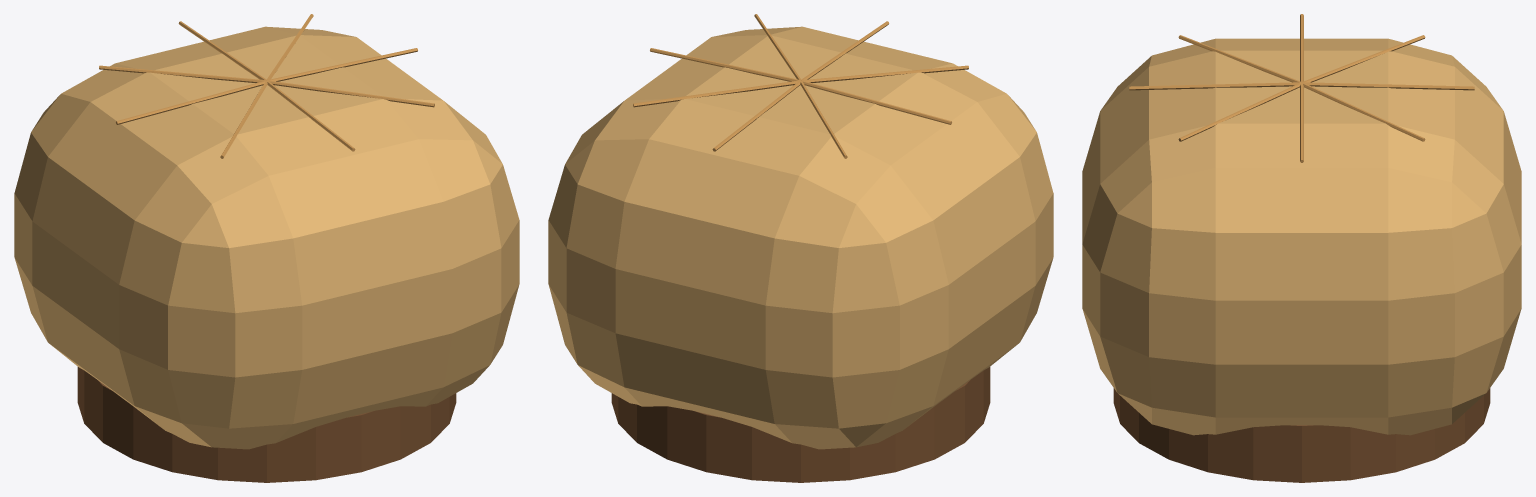
The model's file is pouf_round.glb.
3 views of the same model, side by side, from view 1: azimuth 30°, elevation 25°; view 2: azimuth 150°, elevation 25°; view 3: azimuth 270°, elevation 25° (orthographic).
Parts seen in each view (by area): view 1: pouf_round__oak_light, pouf_round__oak_dark, pouf_round__oak_top; view 2: pouf_round__oak_light, pouf_round__oak_dark, pouf_round__oak_top; view 3: pouf_round__oak_light, pouf_round__oak_dark, pouf_round__oak_top.
Boxes of the visible parts, <box> form: pouf_round__oak_light: <box>14,26,519,449</box>; pouf_round__oak_dark: <box>77,367,456,482</box>; pouf_round__oak_top: <box>99,14,434,158</box>; pouf_round__oak_light: <box>548,26,1053,449</box>; pouf_round__oak_dark: <box>611,367,990,482</box>; pouf_round__oak_top: <box>633,14,968,158</box>; pouf_round__oak_light: <box>1082,38,1521,435</box>; pouf_round__oak_dark: <box>1113,388,1490,482</box>; pouf_round__oak_top: <box>1129,14,1474,162</box>.
Bounding box in the file's own units: 0.56 × 0.4512 × 0.56.
